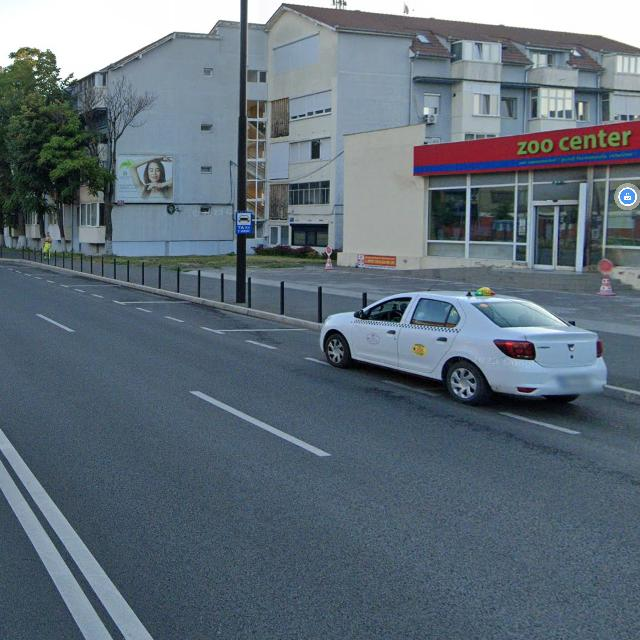info_bus_station: (236, 210, 253, 234)
